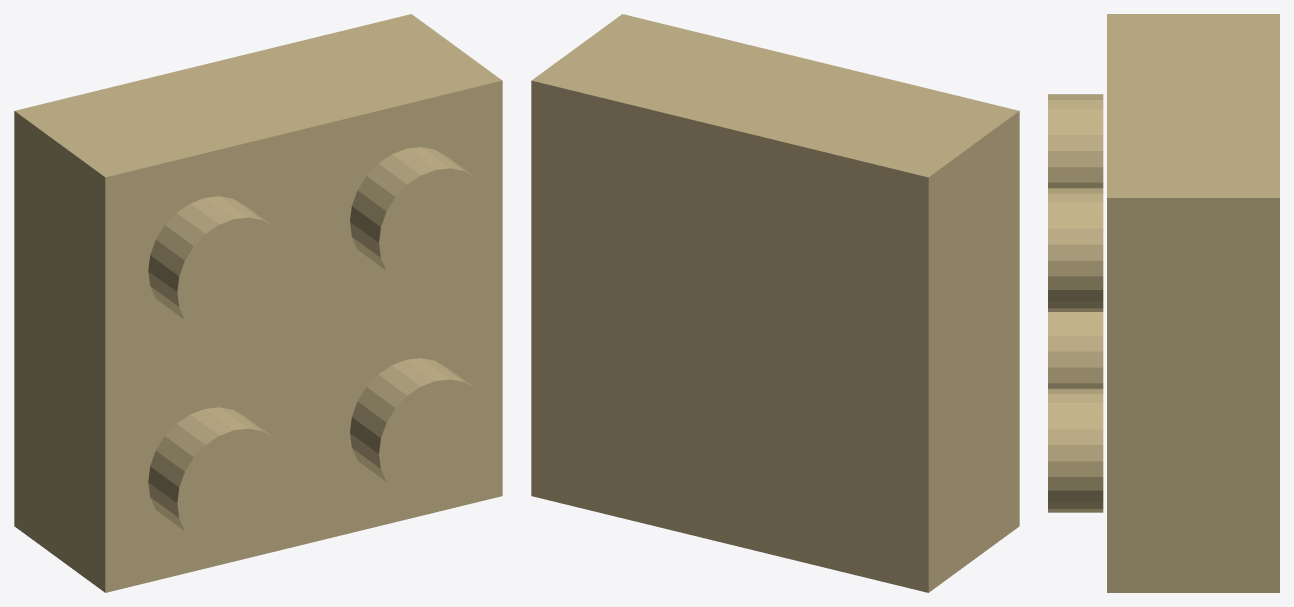
File: brick.glb
The picture shows the model from 3 angles, left to right: view 1: azimuth 30°, elevation 25°; view 2: azimuth 150°, elevation 25°; view 3: azimuth 270°, elevation 25°; orthographic projection. The views are drawn at different scales.
Parts seen in each view (by area): view 1: world; view 2: world; view 3: world.
Boxes of the visible parts, <box> form: world: <box>14,14,502,592</box>; world: <box>531,14,1019,592</box>; world: <box>1048,14,1279,592</box>.
Size of the model in its own units: 0.063 by 0.063 by 0.0335.
